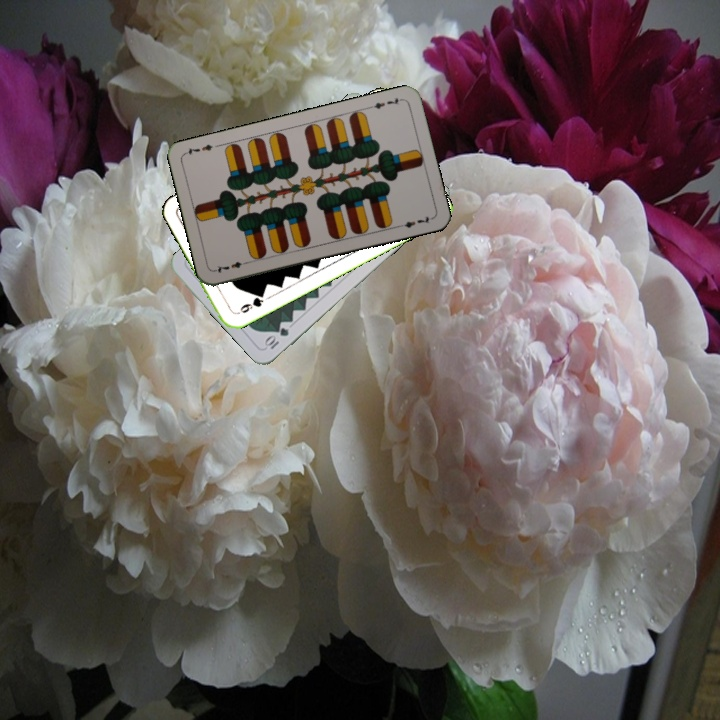E7: (211, 257, 251, 276), (365, 94, 405, 112)
G10: (261, 323, 292, 352)
G9: (232, 289, 267, 317)
